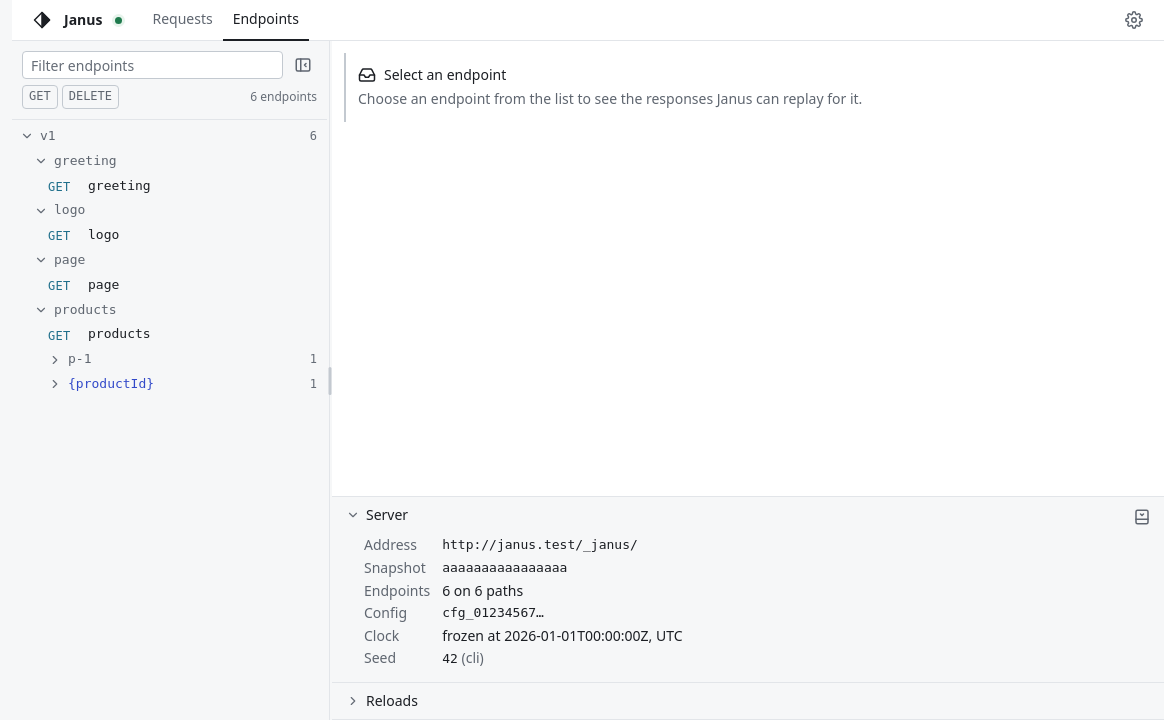
it: fixture variations in the UI › shows path templates in the inventory, with parameters set apart and announced
Click the button with aria-label "/v1/products/{productId}, path parameter productId".
click(111, 383)  # box [12,372,327,397]
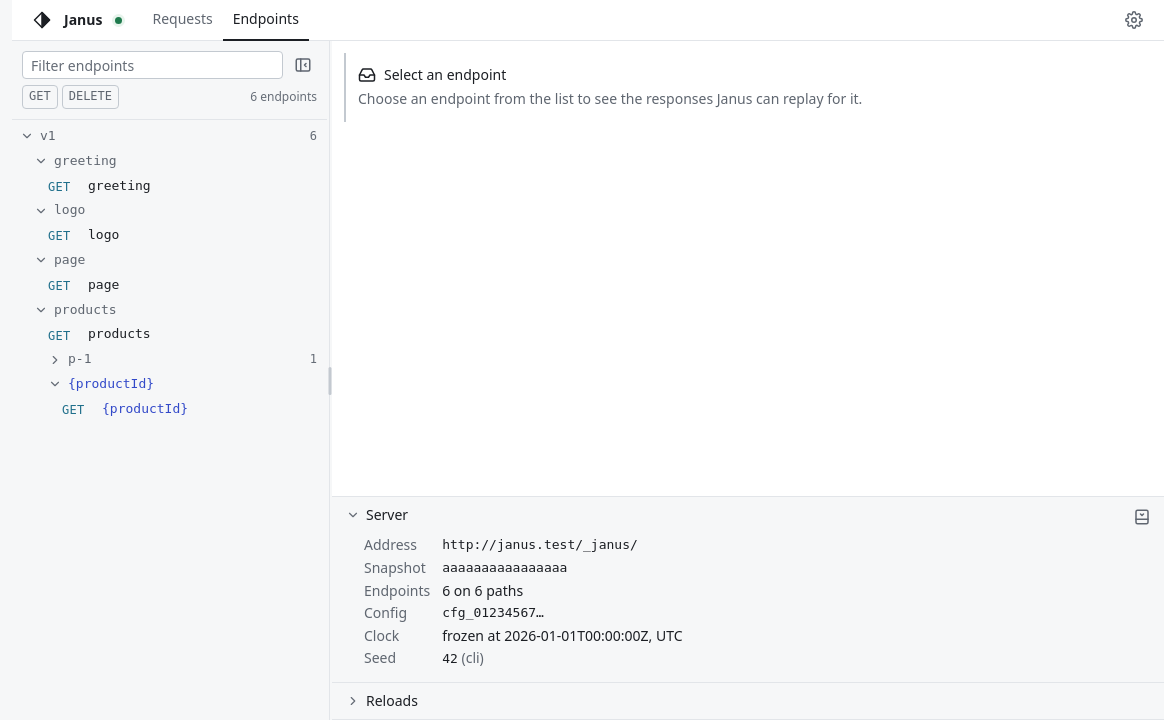
Expected: the link with aria-label "GET /v1/greeting, scenario default" is shown, [48,178,151,194]
Result: the link named "GET /v1/products/{productId}, path parameter productId, scenario default" reads "GET {productId}" at [62,401,188,417]
Result: the 2nd text titled "Path parameter" reads "{productId}" at [102,401,188,416]
